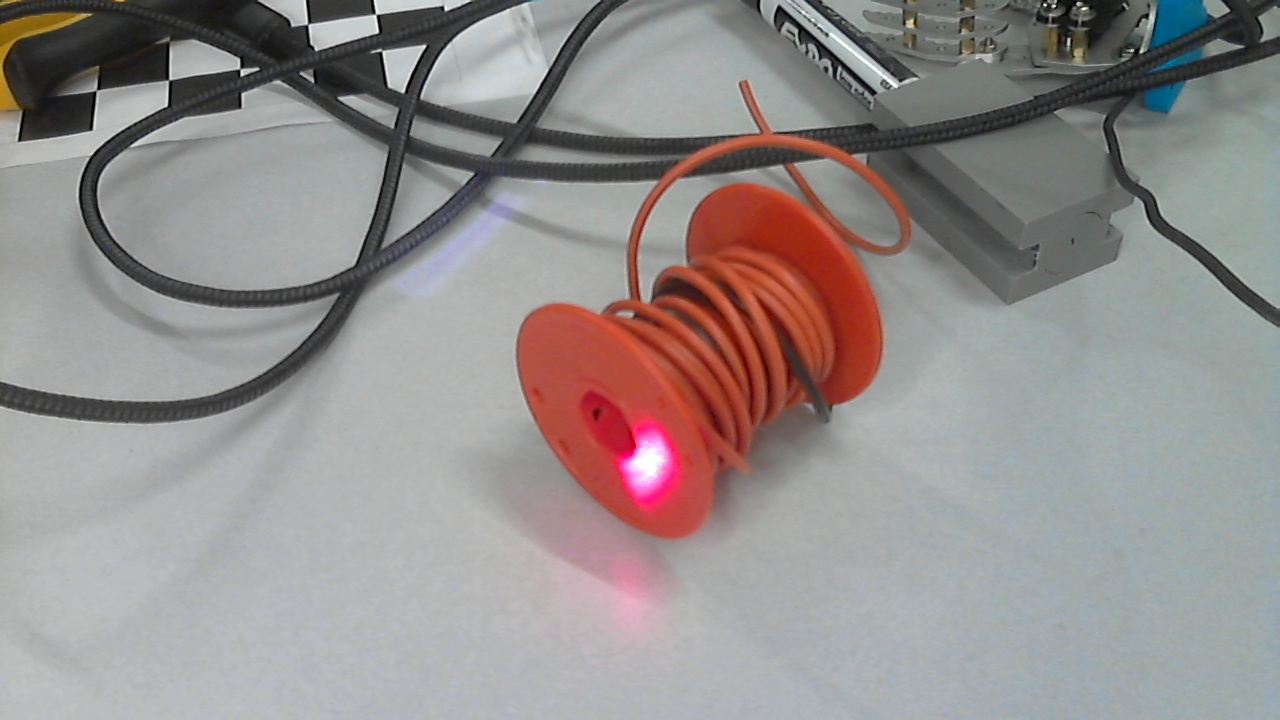Object scissors - Material metal - Pdfname tYexGlkiIXWc: (614, 413, 705, 525)
